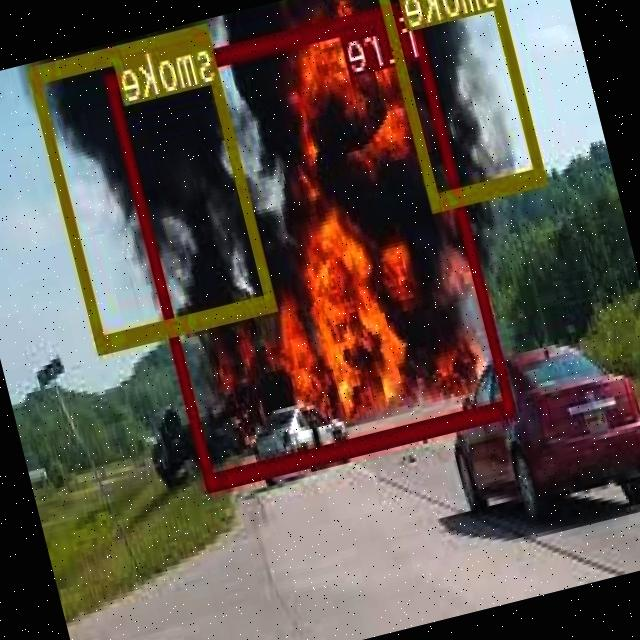fire: (106, 0, 519, 487)
smoke: (29, 19, 278, 350), (376, 0, 549, 209)
